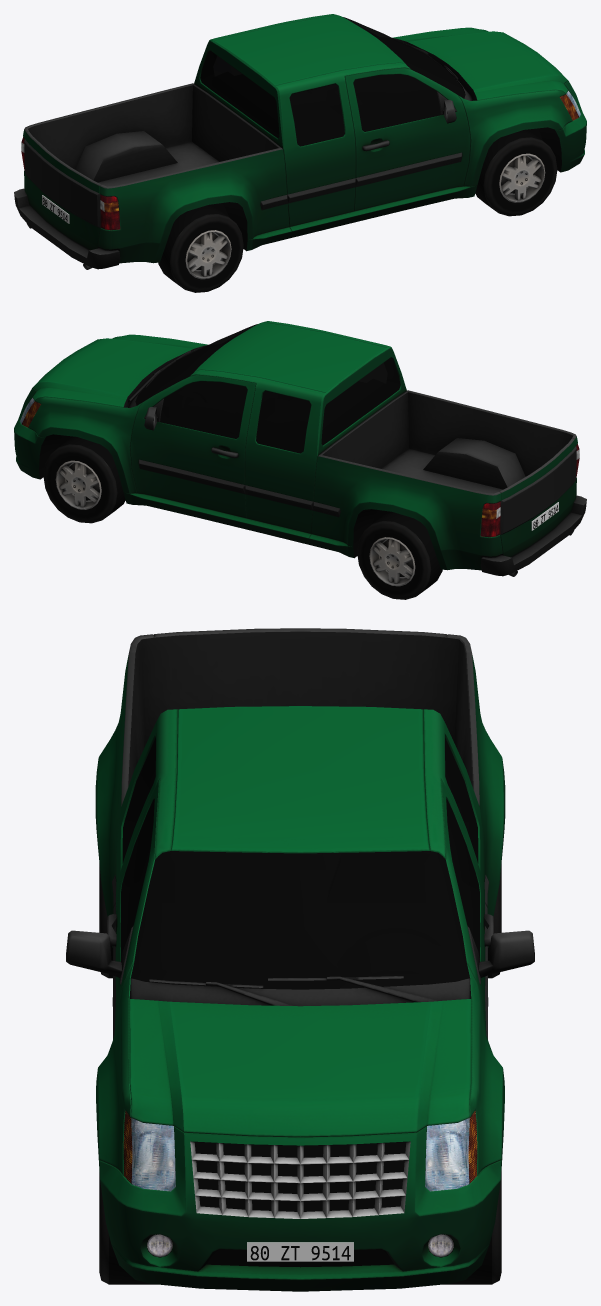
The model's file is CarPlated1373.dae.
The picture shows the model from 3 angles, top to bottom: view 1: azimuth 30°, elevation 25°; view 2: azimuth 150°, elevation 25°; view 3: azimuth 270°, elevation 25°; orthographic projection. The views are drawn at different scales.
Parts seen in each view (by area): view 1: CarPlated1373; view 2: CarPlated1373; view 3: CarPlated1373.
Part boxes in pixels (box(x1,y1,x2,y2)): CarPlated1373: box(14, 14, 586, 292); CarPlated1373: box(14, 321, 586, 599); CarPlated1373: box(66, 628, 534, 1291).
Size of the model in its own units: 5.2 by 2.07 by 1.7.
